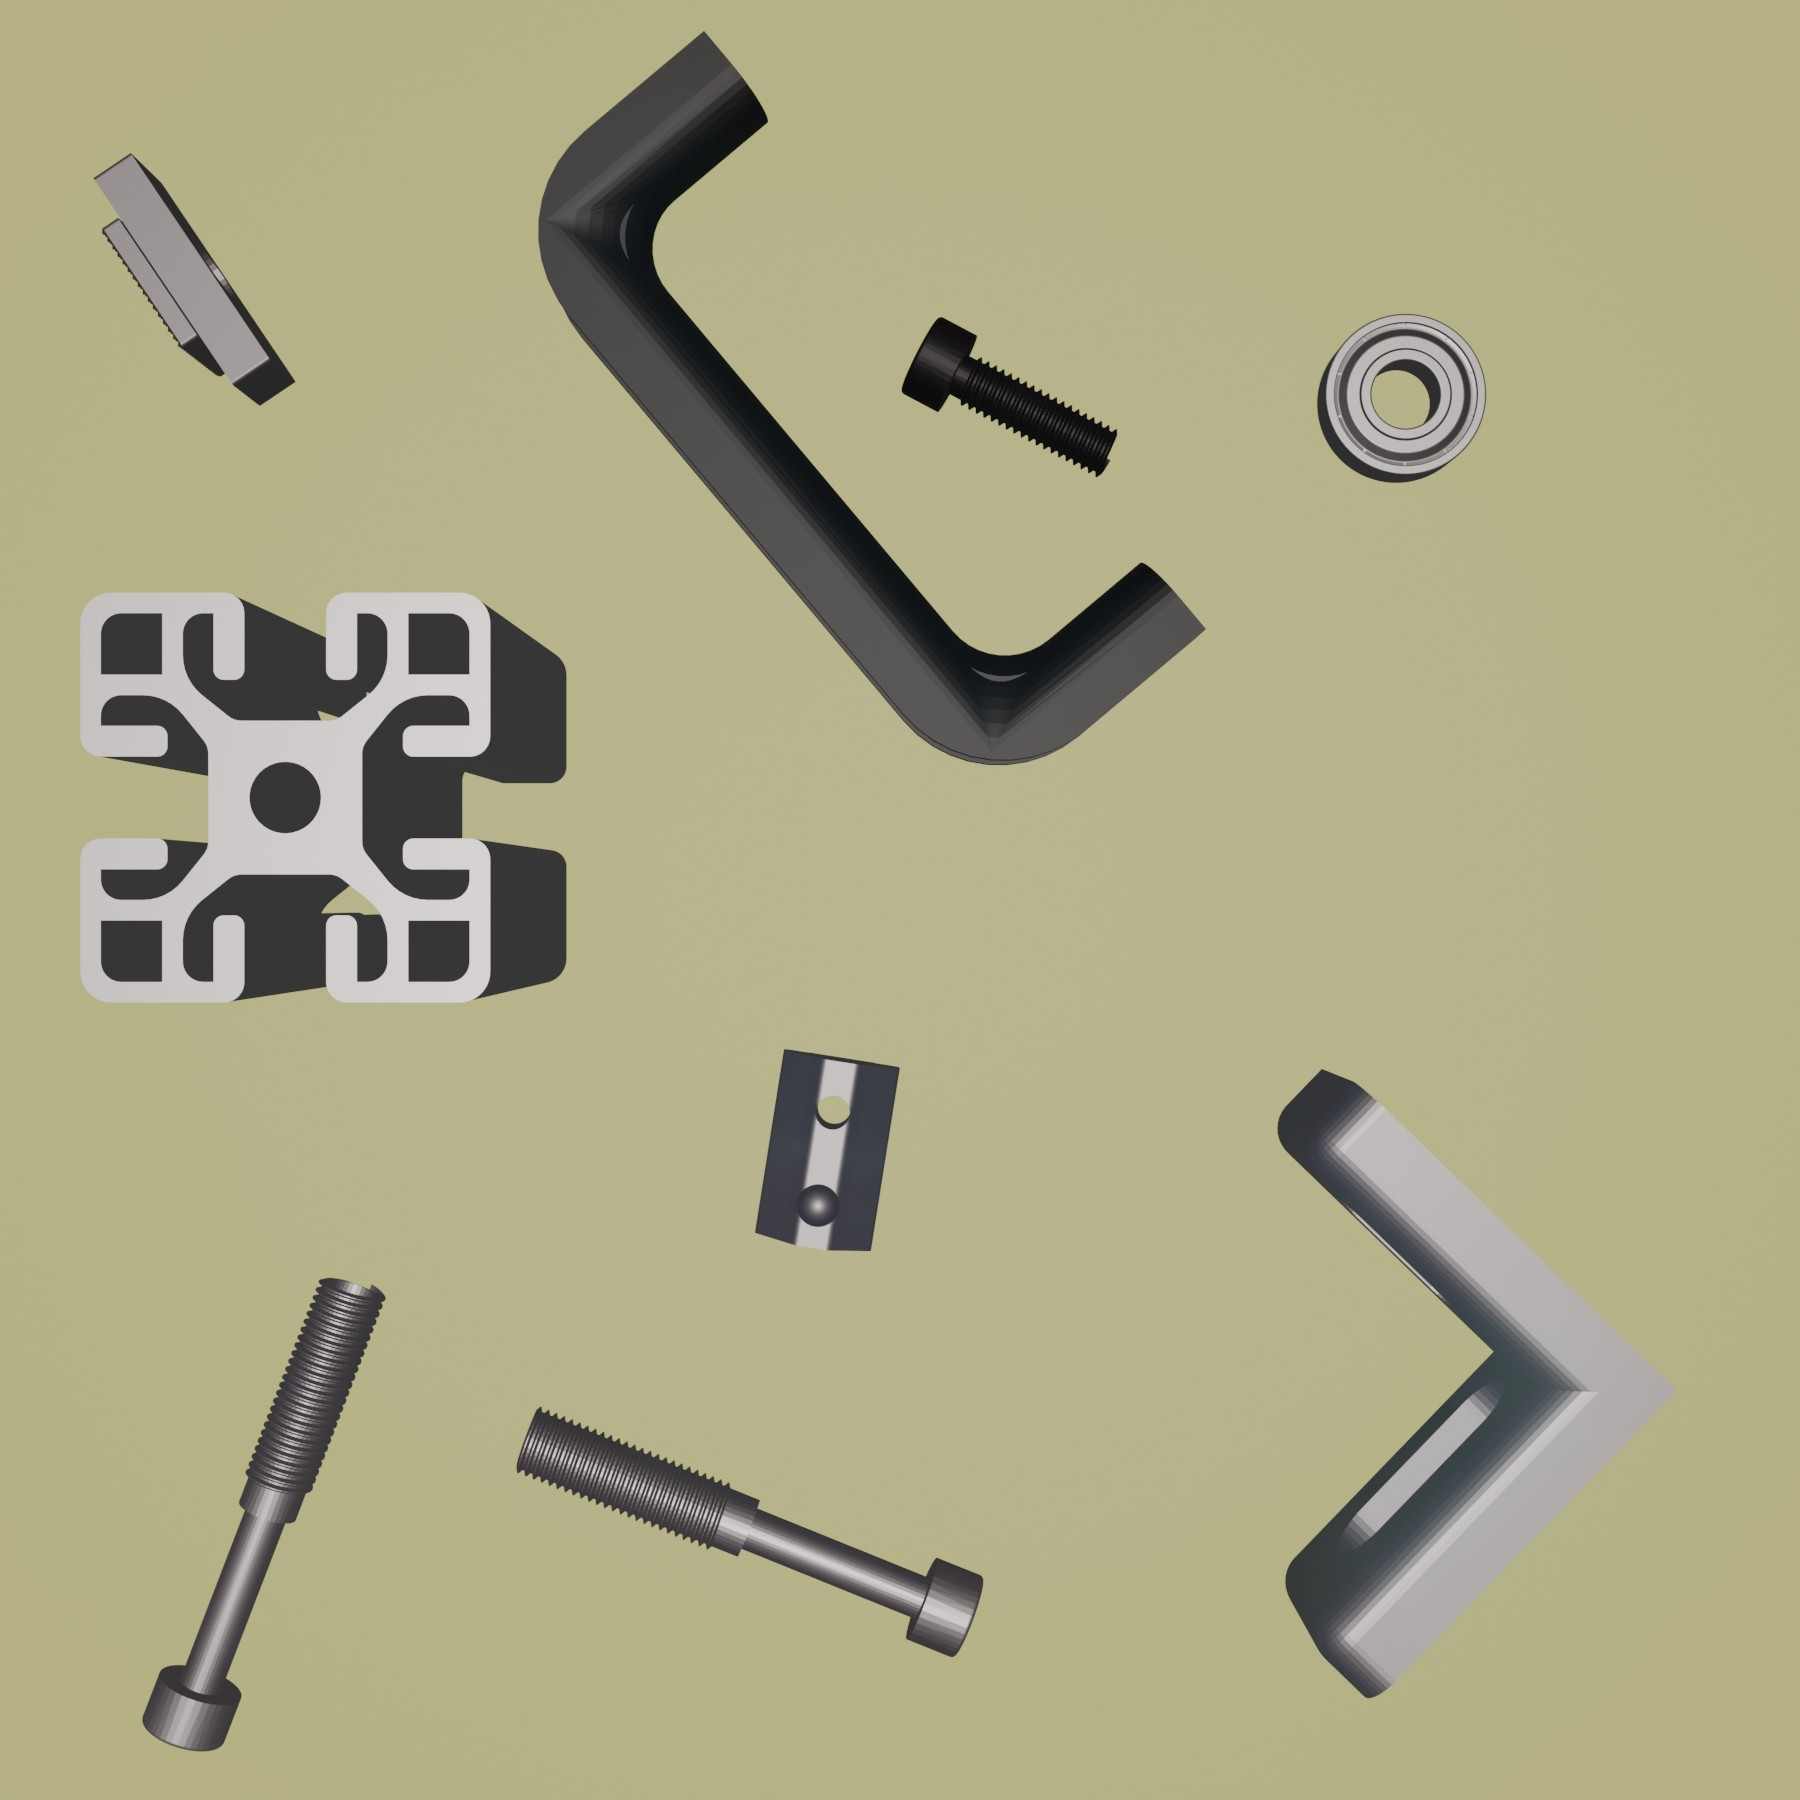Aluminium Extension: (77, 588, 570, 1009)
Ball Bearing: (1315, 312, 1488, 485)
Multiwinkel: (1276, 1065, 1681, 1699)
Pull Handle: (536, 31, 1207, 770)
Shoulder Socket Head Cap Screw: (513, 1404, 986, 1658), (140, 1273, 386, 1752)
Socket Head Cap Screw: (898, 315, 1119, 478)
T Nut Square: (87, 152, 297, 410)
T Spring Nut: (753, 1048, 902, 1254)
